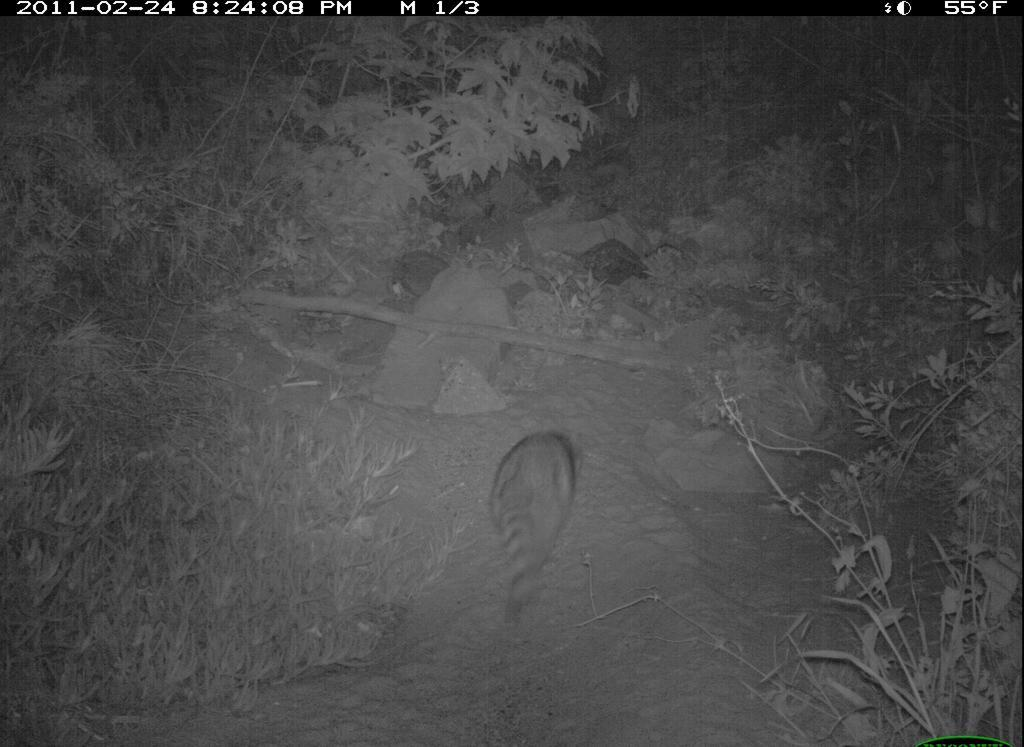raccoon: (479, 423, 591, 633)
